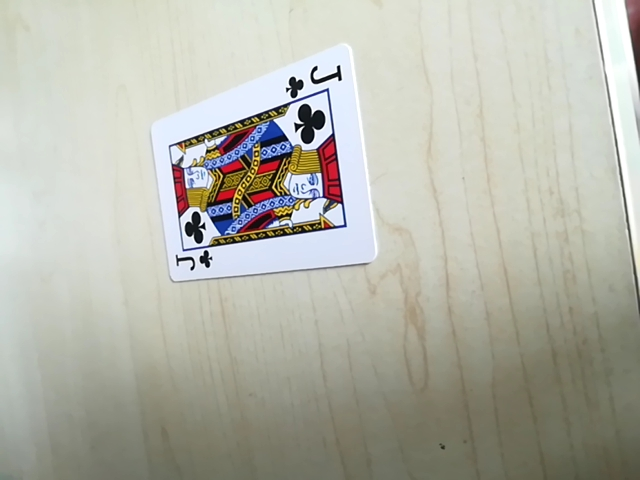mh j: (284, 59, 345, 97), (168, 242, 217, 281)
